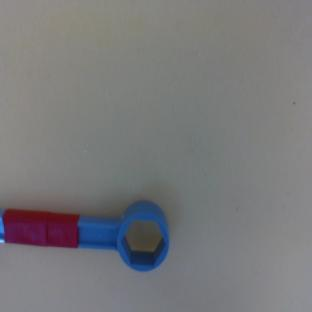part_3_good: (0, 201, 169, 271)
